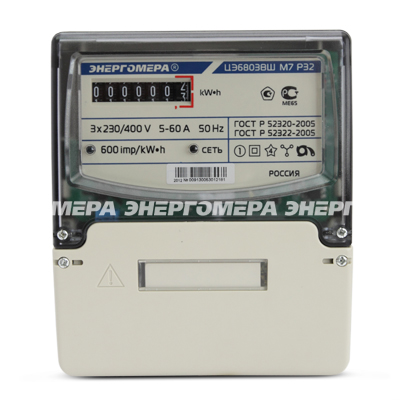counter: (46, 28, 356, 378)
counter_screen: (88, 76, 194, 105)
